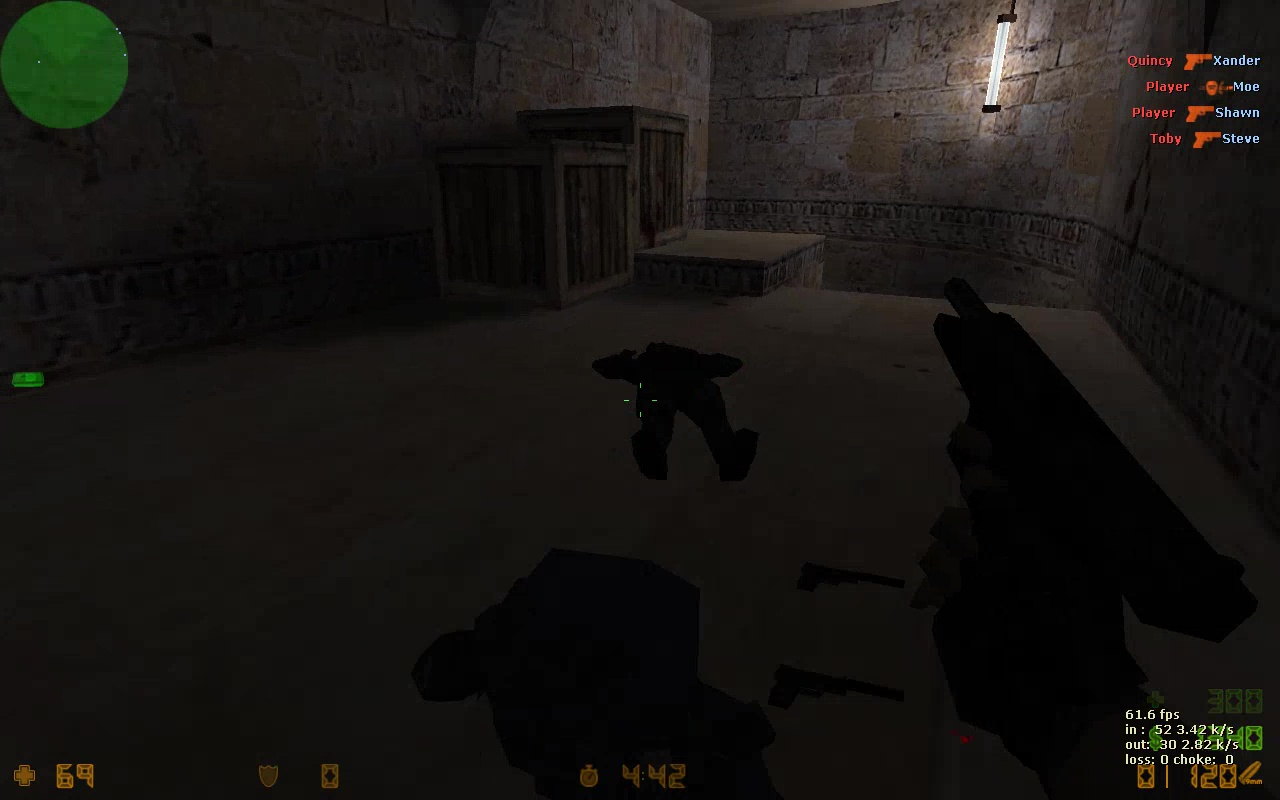dead: (414, 546, 785, 795), (596, 341, 765, 482)
